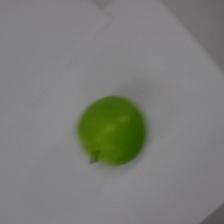green: (75, 93, 148, 167)
